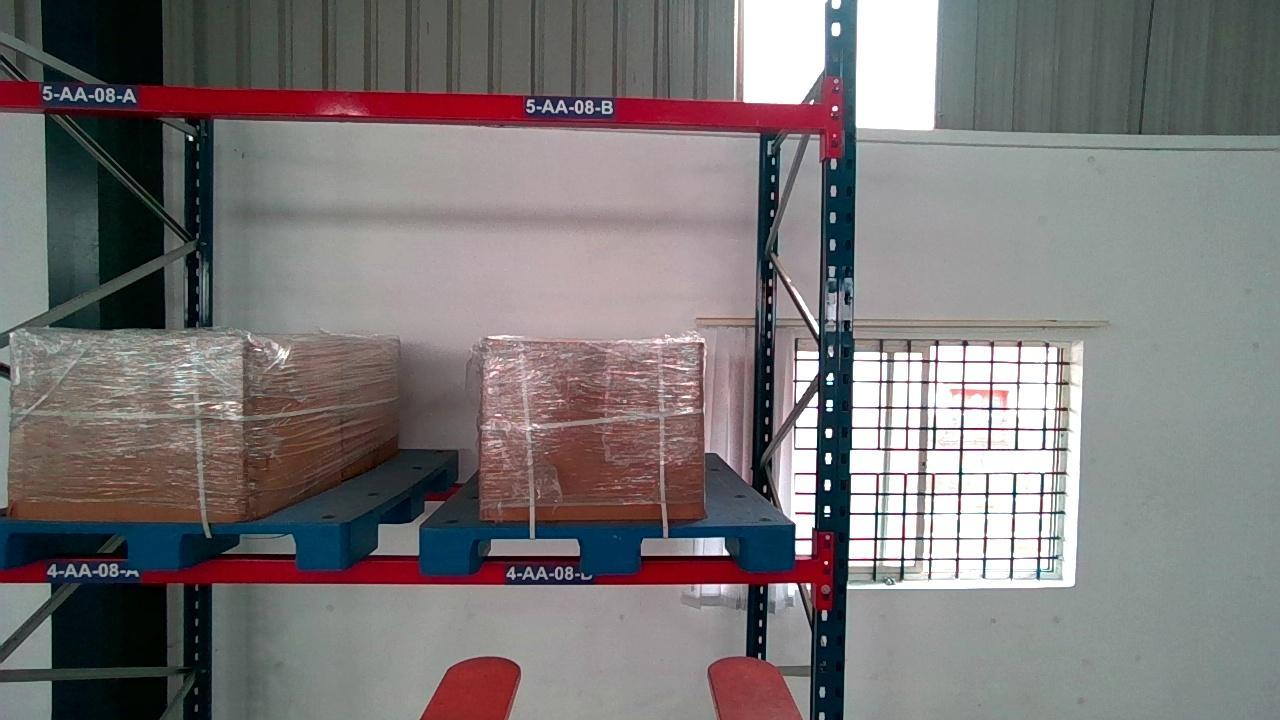h_rack: (0, 81, 831, 131), (2, 557, 827, 584)
small_pallet: (421, 524, 794, 573), (3, 519, 343, 569)
